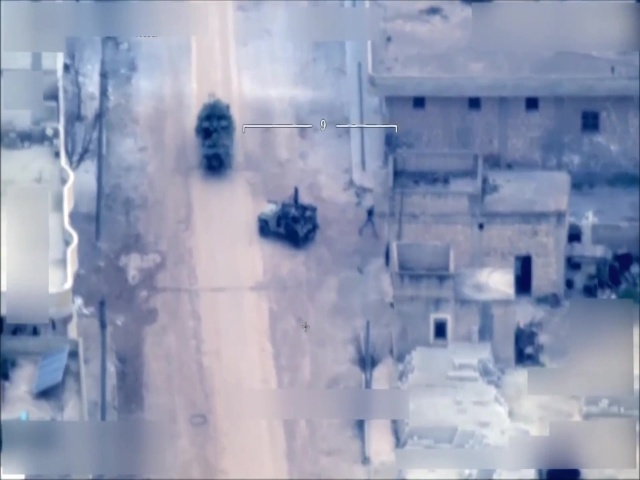vehicle: (257, 192, 320, 248), (193, 97, 237, 171)
